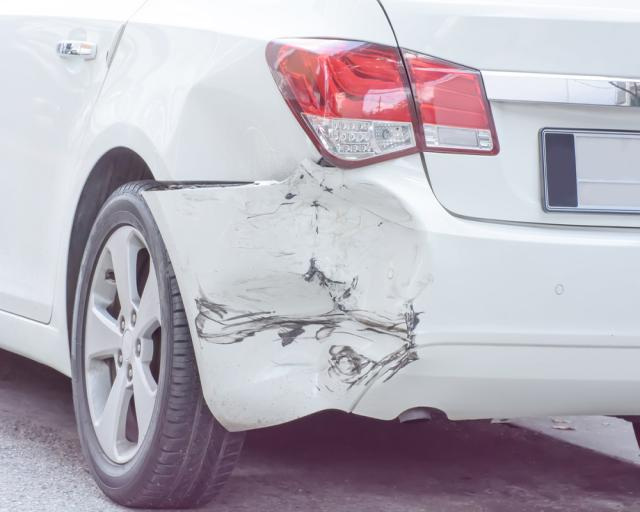dent: (201, 177, 428, 408), (166, 86, 307, 179)
